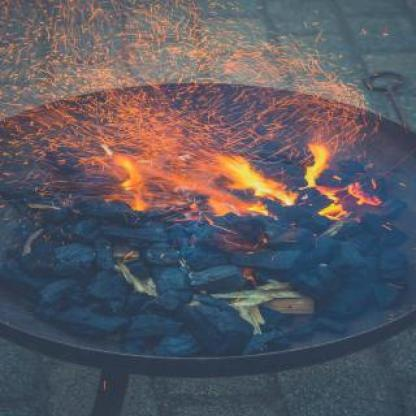fire: (71, 114, 346, 221)
